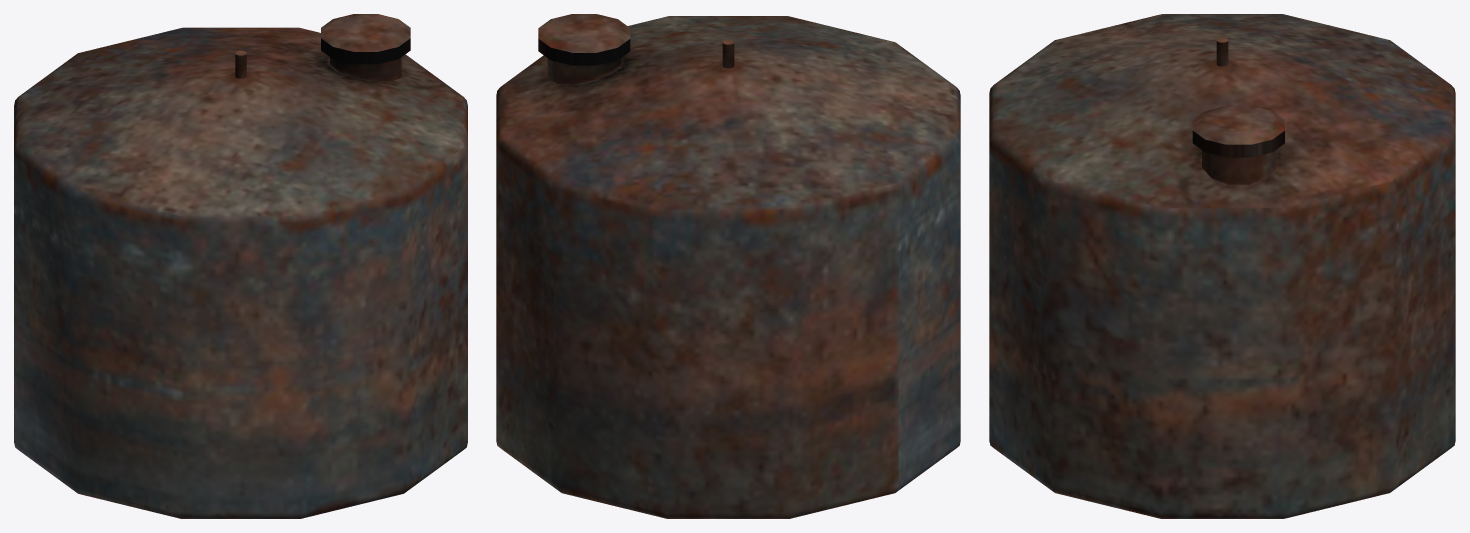
File: RustedIndustrialTank.FBX
3 views of the same model, side by side, from view 1: azimuth 30°, elevation 25°; view 2: azimuth 150°, elevation 25°; view 3: azimuth 270°, elevation 25° (orthographic). The views are drawn at different scales.
Parts seen in each view (by area): view 1: RustedIndustrialTank; view 2: RustedIndustrialTank; view 3: RustedIndustrialTank.
Boxes of the visible parts, x1,y1,x2,y2 form: RustedIndustrialTank: (14,14,467,518); RustedIndustrialTank: (496,14,960,518); RustedIndustrialTank: (989,14,1455,518).
Size of the model in its own units: 500 by 453 by 500.
